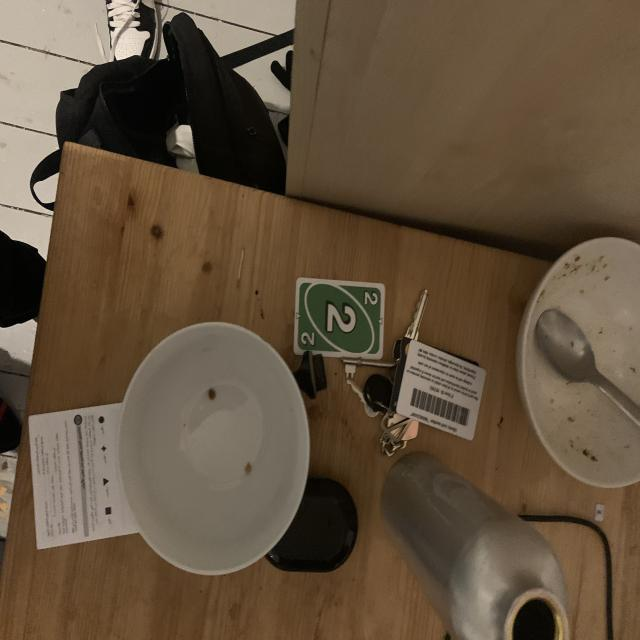lgreen-2: (361, 287, 381, 309)
